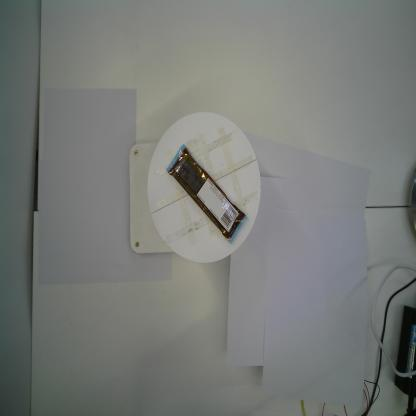Chocolate: (164, 144, 248, 245)
